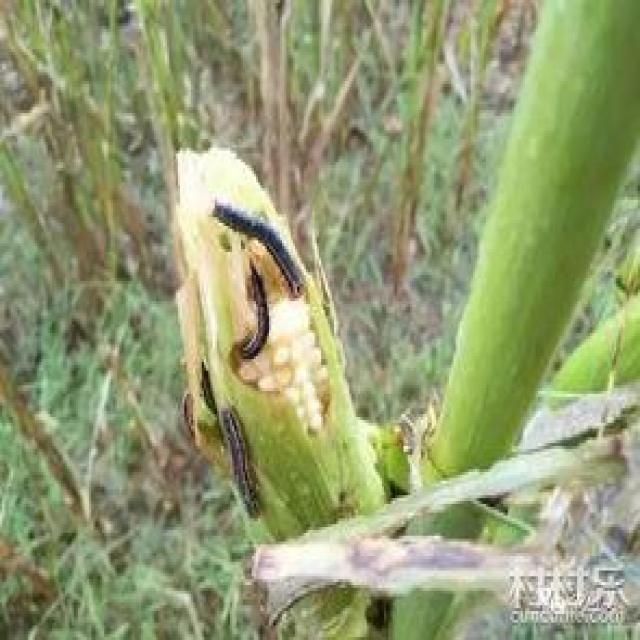pest: (218, 204, 315, 297), (222, 409, 264, 517), (244, 269, 274, 366), (181, 397, 200, 450)
